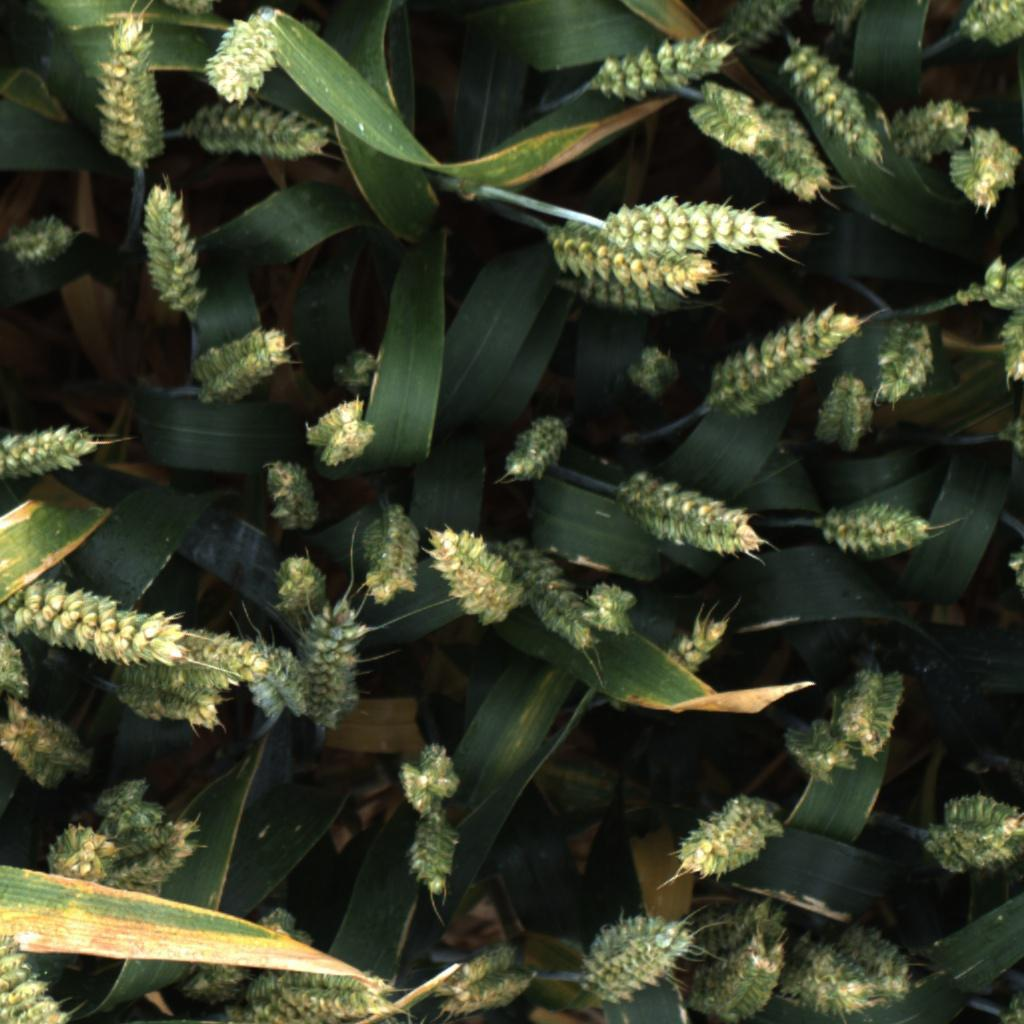0-0: (696, 303, 864, 424), (0, 573, 191, 674), (180, 898, 323, 1010), (544, 213, 727, 300), (600, 189, 804, 263), (616, 466, 775, 554), (87, 11, 170, 174), (577, 908, 700, 1011), (421, 524, 532, 638), (786, 37, 882, 157), (140, 176, 217, 325), (588, 29, 740, 102), (672, 788, 788, 882), (515, 530, 595, 663), (689, 927, 792, 1024), (428, 935, 547, 1018), (297, 597, 367, 728), (0, 702, 92, 797), (242, 967, 395, 1024), (105, 813, 205, 900), (186, 104, 336, 162), (188, 324, 293, 406), (689, 898, 790, 982), (201, 7, 281, 108), (758, 99, 834, 205), (559, 265, 703, 319), (354, 506, 426, 610), (832, 666, 912, 758), (0, 930, 78, 1024), (784, 943, 876, 1022), (120, 667, 226, 735), (691, 76, 769, 167), (948, 130, 1024, 216), (820, 498, 933, 554), (887, 89, 969, 166), (0, 419, 97, 484), (867, 323, 938, 411), (661, 600, 740, 679), (780, 717, 859, 795), (842, 922, 915, 1004), (713, 0, 807, 63), (499, 405, 572, 484), (921, 819, 1022, 876), (91, 773, 170, 844), (248, 630, 314, 714), (162, 628, 266, 681), (42, 819, 117, 892), (931, 783, 1024, 841), (258, 455, 326, 534), (811, 373, 877, 454), (301, 395, 375, 466), (405, 814, 461, 904), (399, 737, 463, 813), (968, 240, 1023, 322), (0, 209, 76, 268), (267, 552, 332, 616), (953, 0, 1024, 53), (628, 345, 687, 405), (327, 340, 382, 402), (579, 582, 640, 637), (0, 622, 34, 707), (220, 1004, 348, 1024), (1000, 303, 1024, 386), (156, 0, 222, 21)
